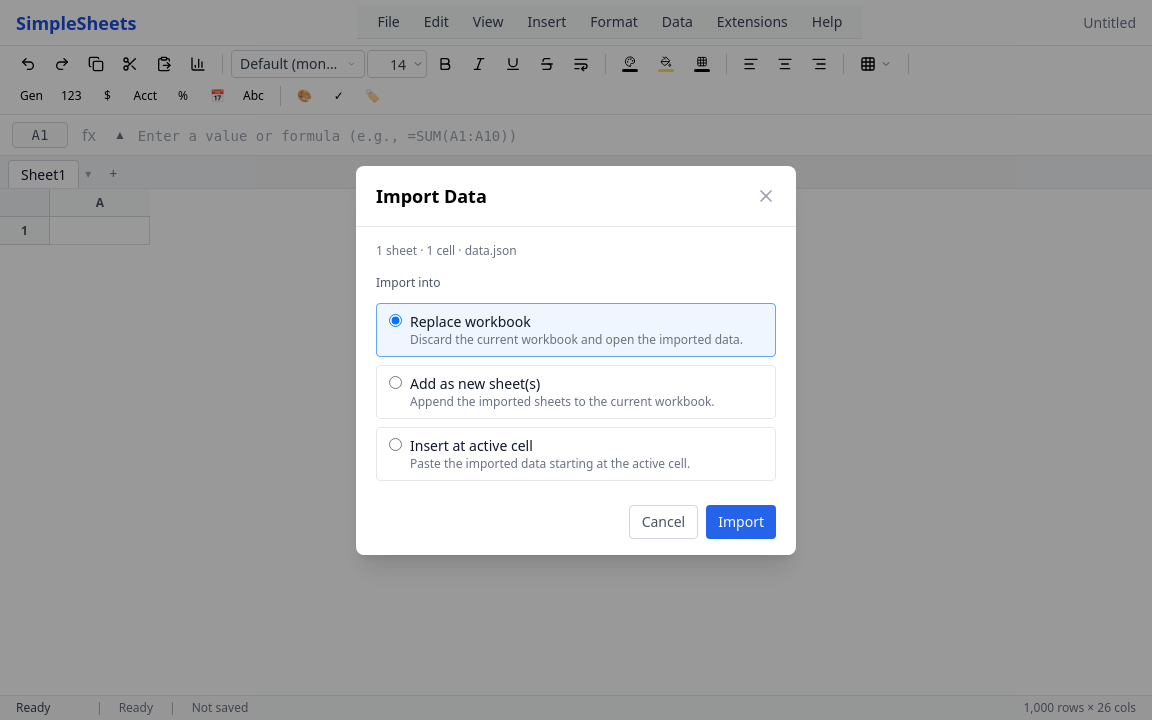
Test: App import scope dialog › inserts at the active cell when Insert is chosen
Earlier steps of the test are not shown.
Step 1. Click the radio button labelled "Insert at active cell" → (396, 444), box [389,438,402,450]
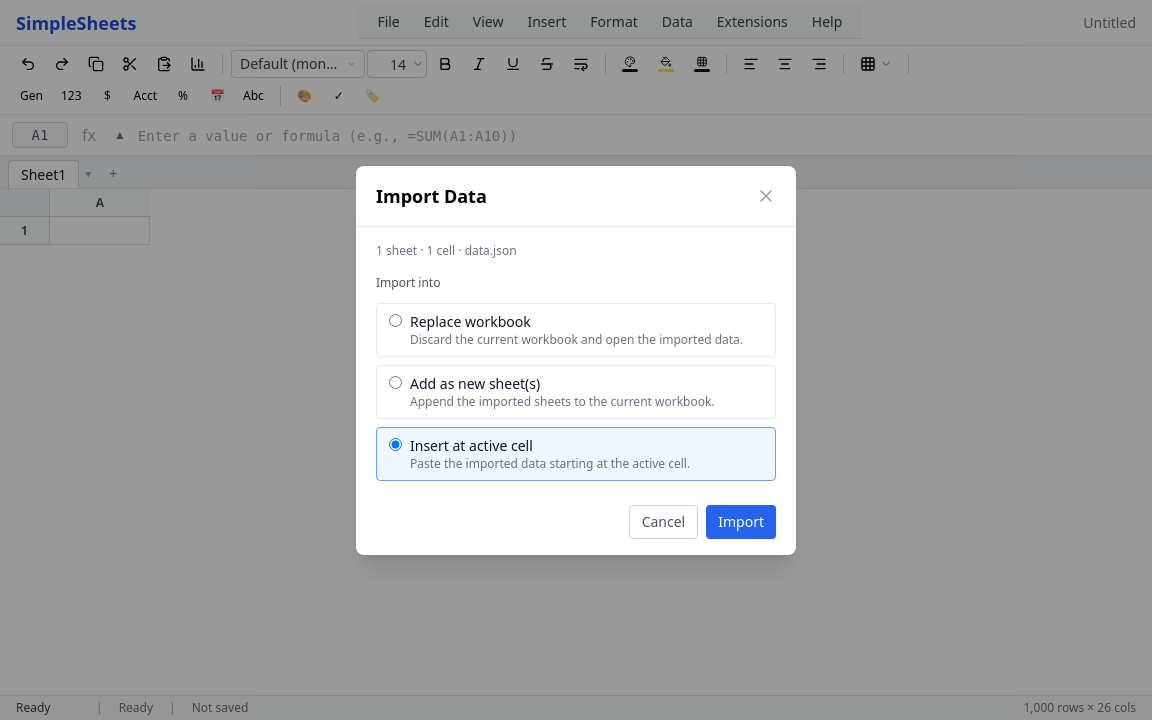
Step 2. Click the button "Import" → (741, 522), box [706,504,776,538]
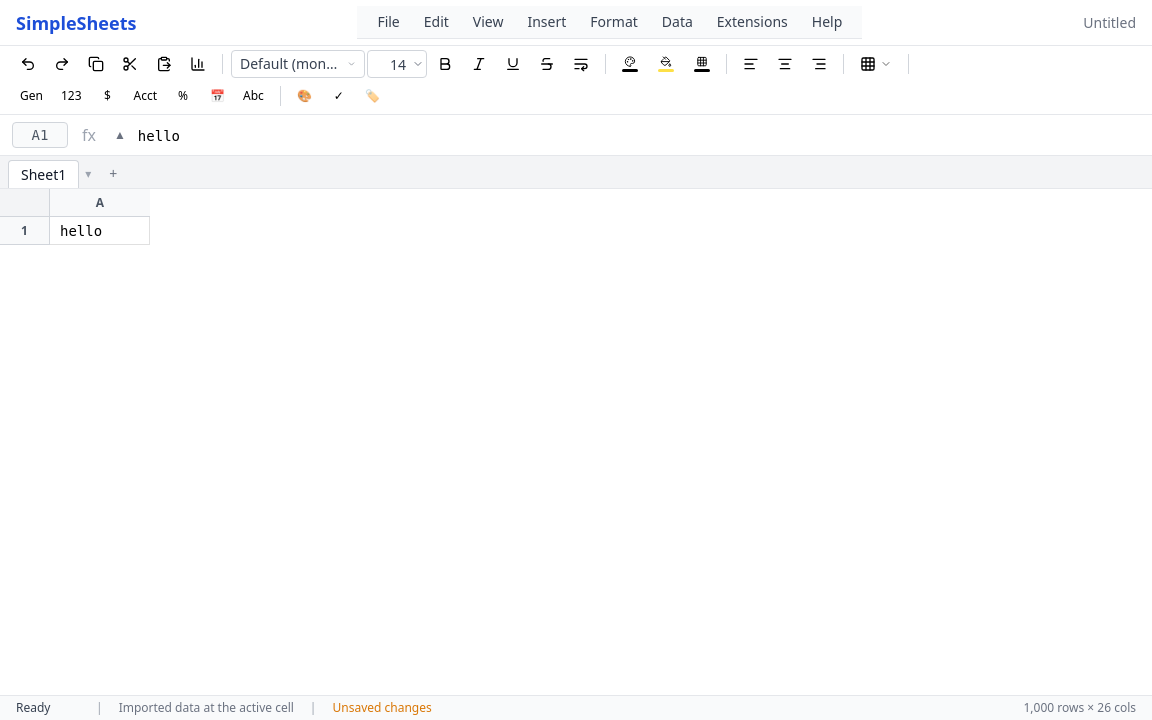
Check: the text with test id "status-message" reads "Imported data at the active cell", box [119,699,294,716]
